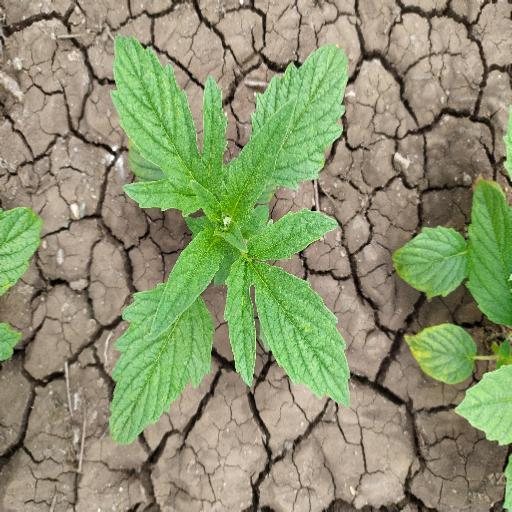crop: (58, 39, 512, 447)
